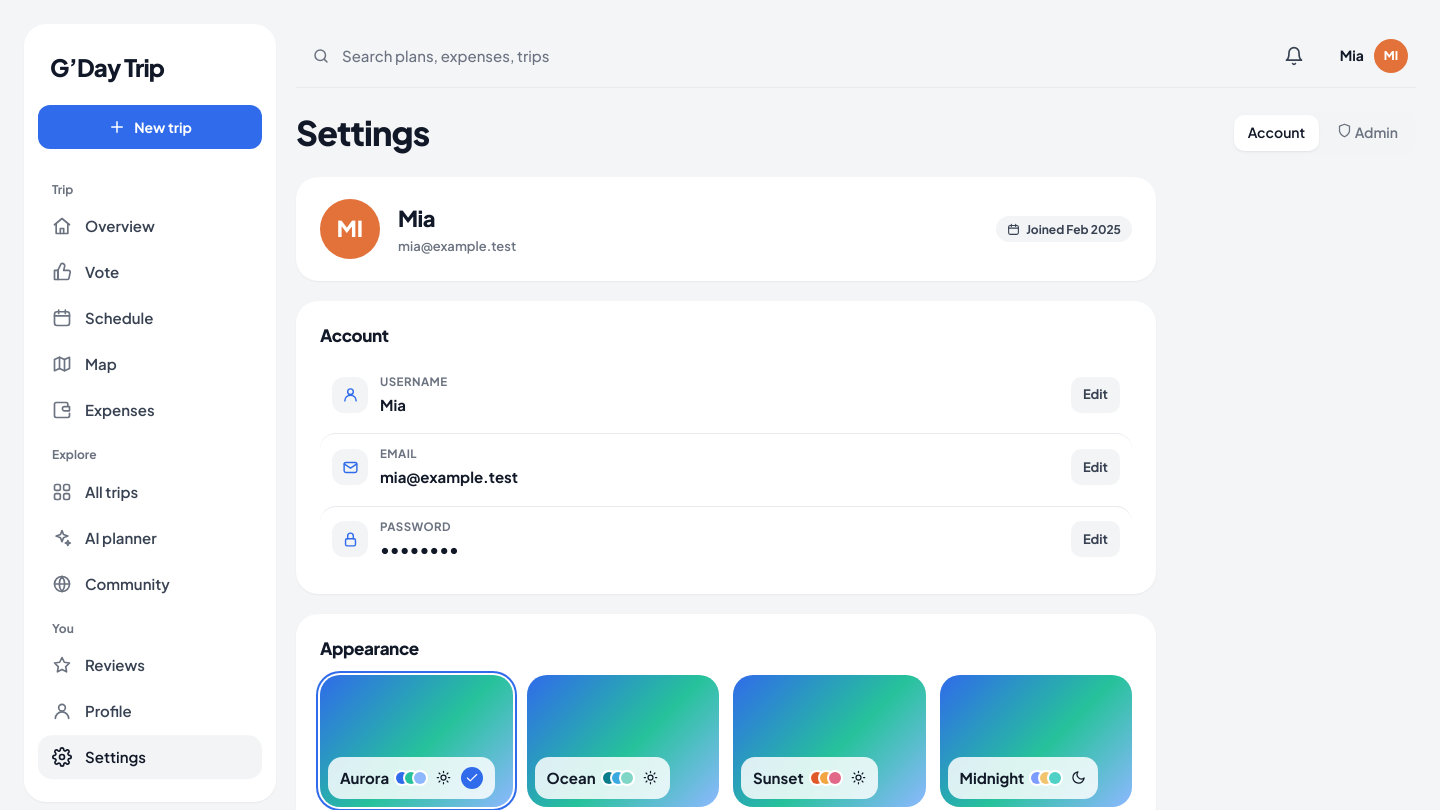
Scenario: Settings › admin: switching a service off saves and reaches the app's service status
The width and height of the screenshot is (1440, 810).
expect the navigation bar with id "auth" is shown: met, box [38,735,262,779]
Click the button "Admin": [1368, 133] box [1323,115,1412,151]
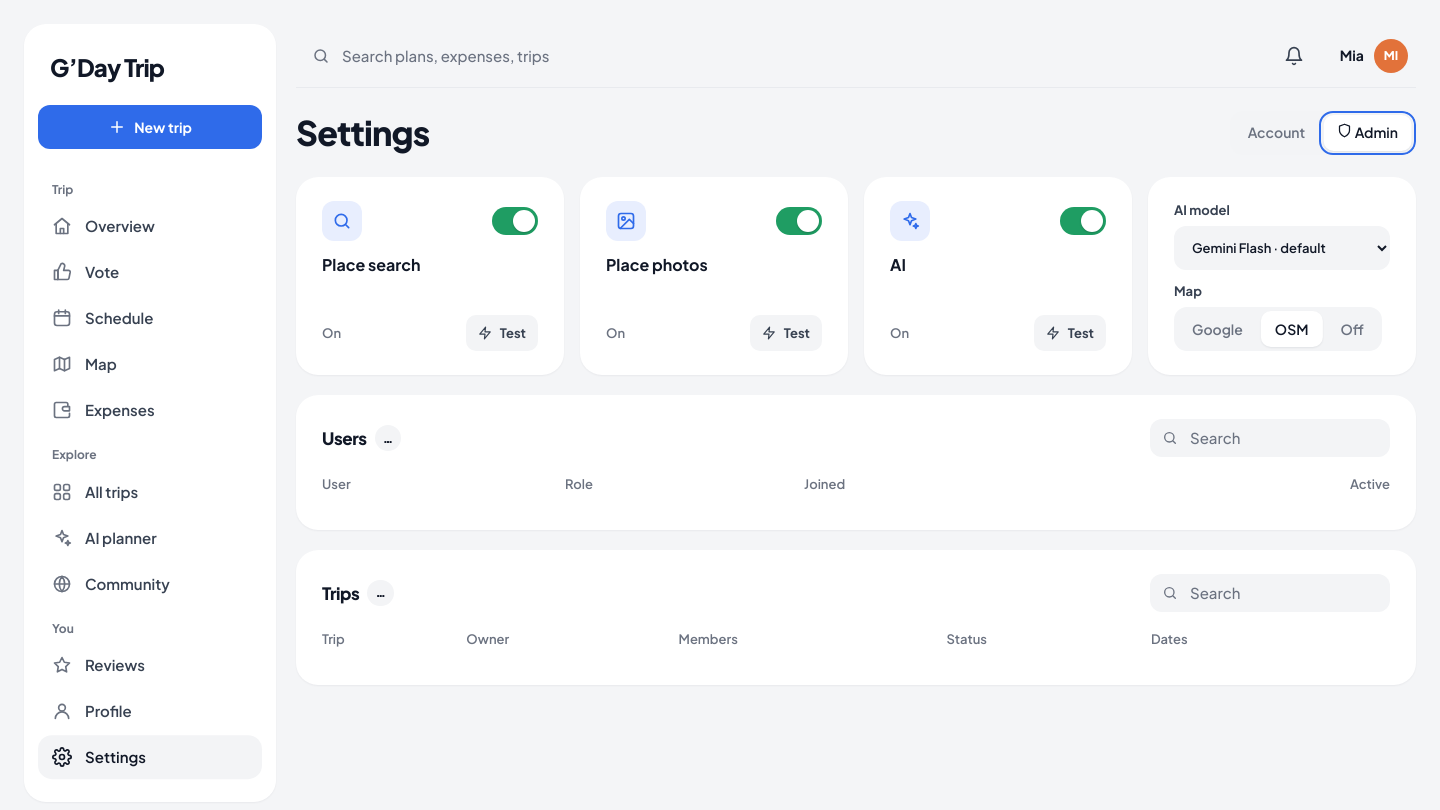
expect the checkbox named "AI" is checked: met
Click the checkbox named "AI": [1083, 221] box [1060,207,1106,235]
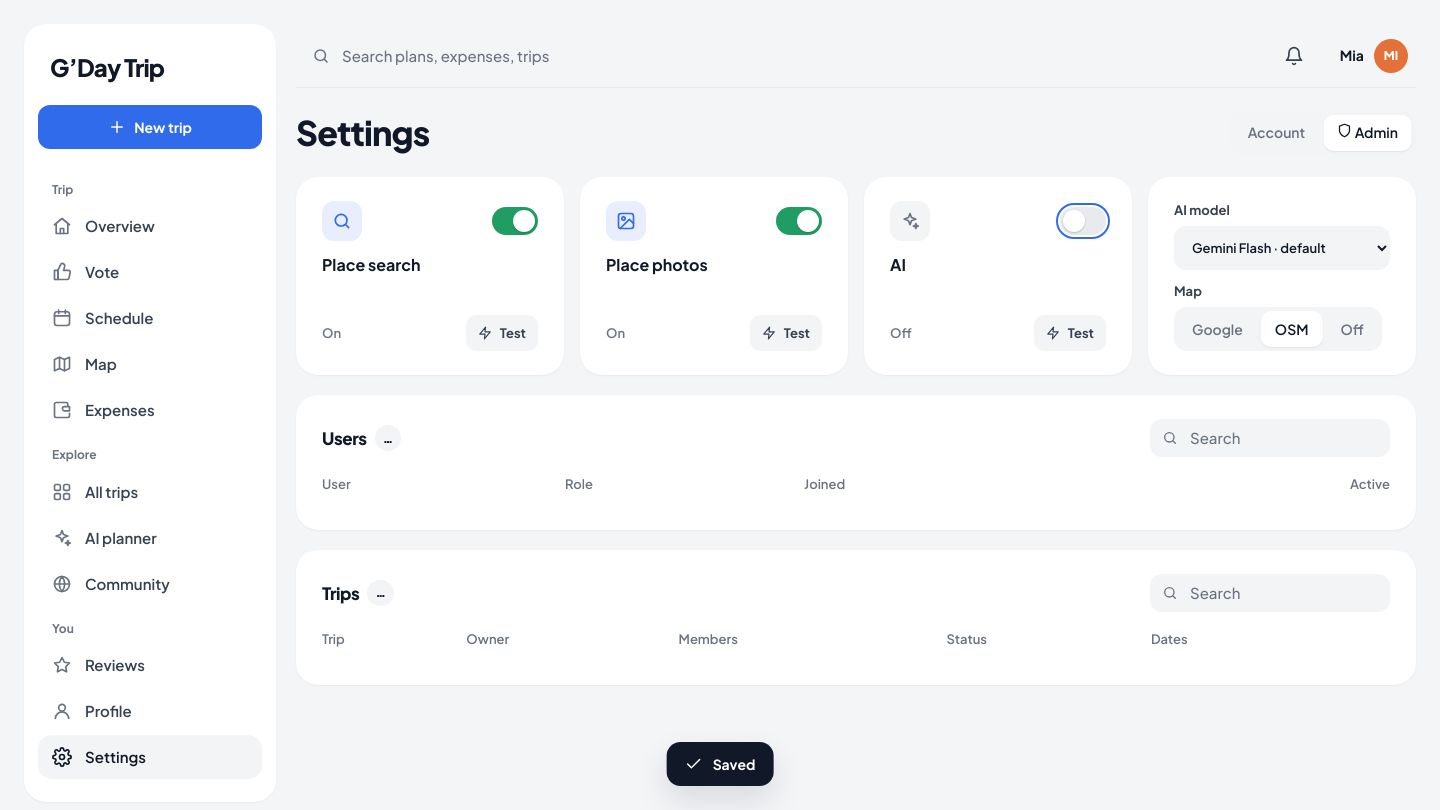
Click the button "AI planner": [150, 538] box [38,516,262,560]
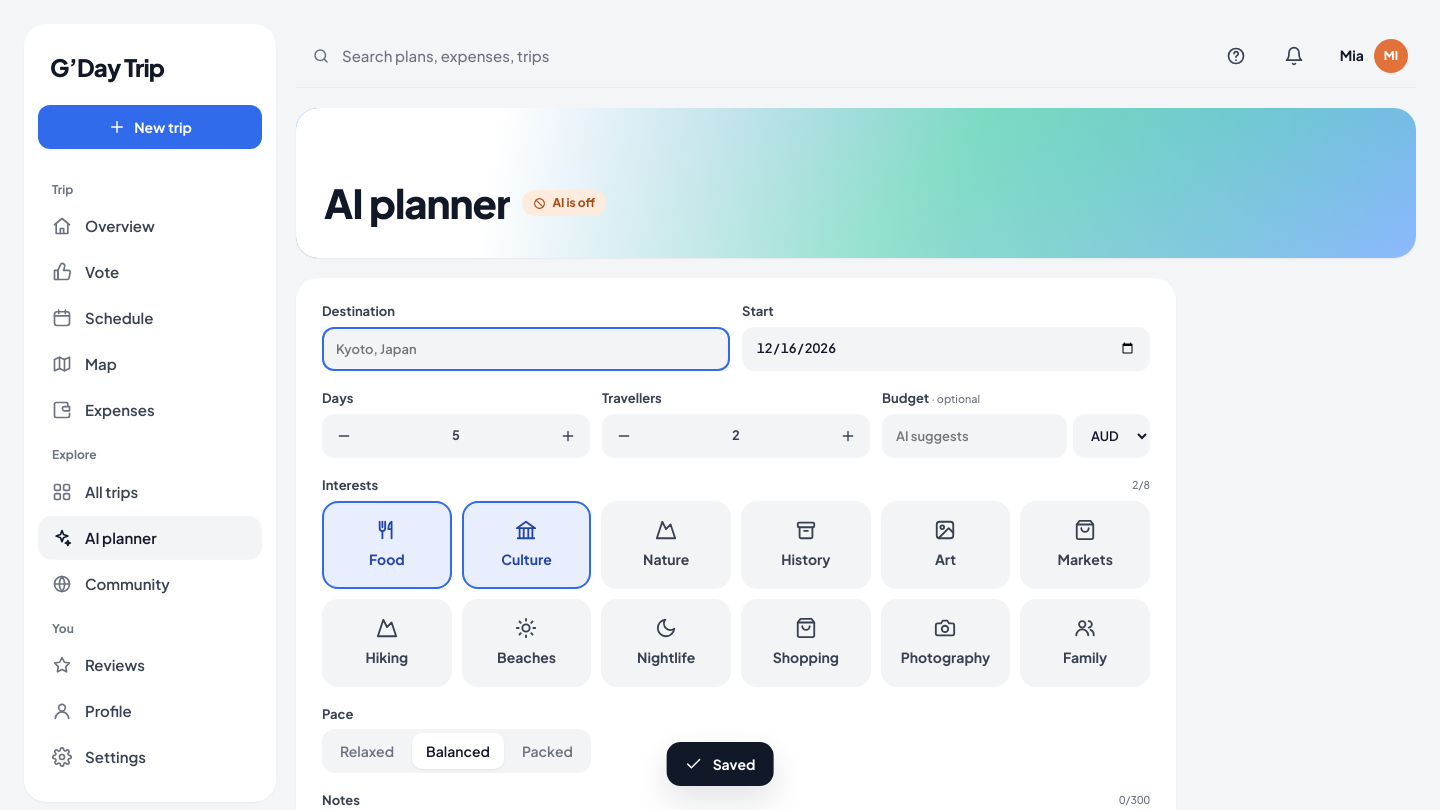
expect the text "AI is off" is shown: met, box [522,190,606,216]
